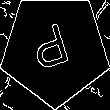P_S: (31, 19, 79, 79)
